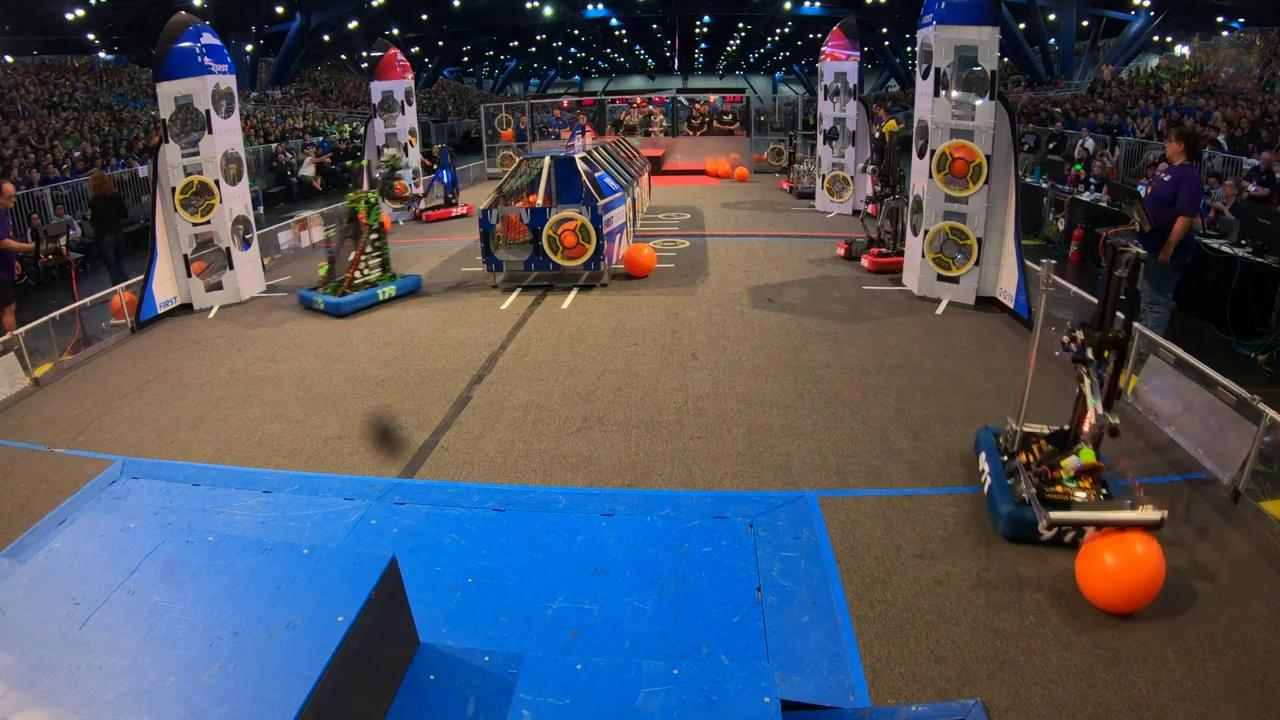robot: (970, 224, 1169, 563), (289, 181, 428, 320), (828, 130, 916, 272), (409, 146, 474, 225)
